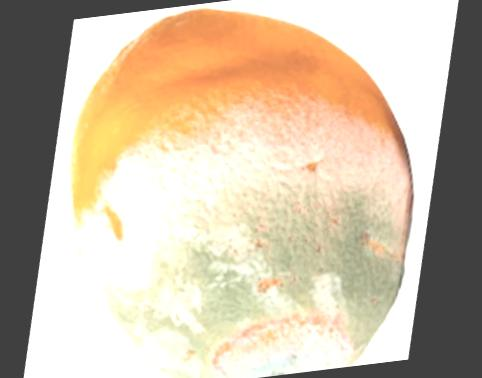Orange Rotten: (30, 0, 445, 378)
